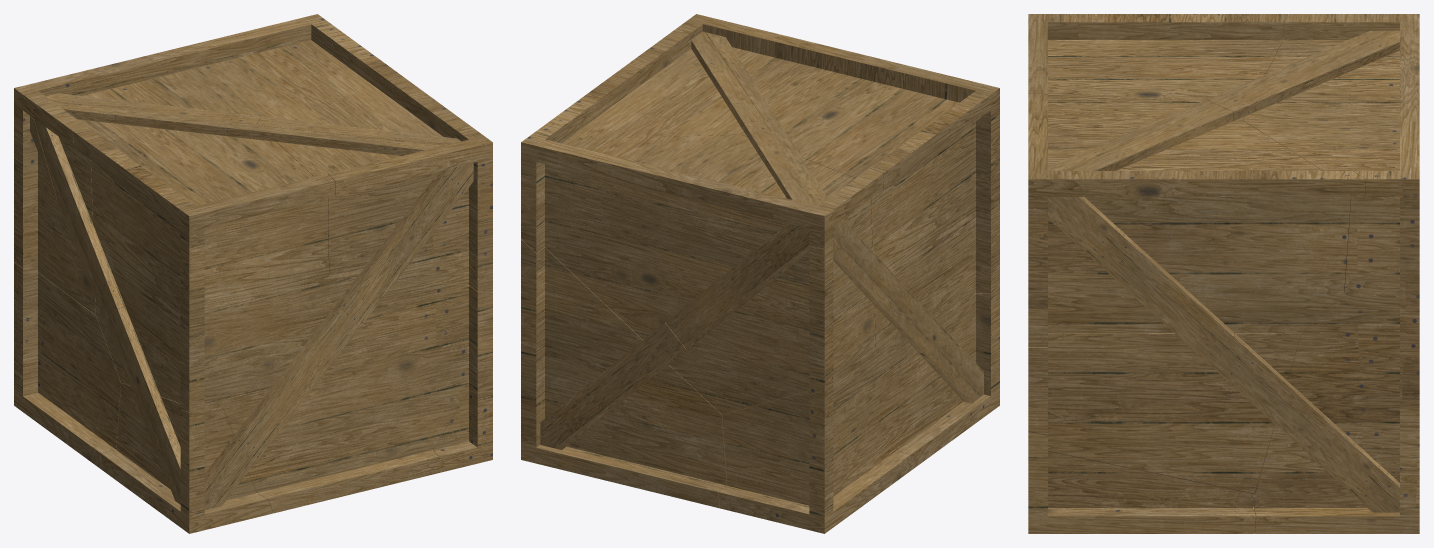
Rendered from broken_crate.glb.
The picture shows the model from 3 angles, left to right: view 1: azimuth 30°, elevation 25°; view 2: azimuth 150°, elevation 25°; view 3: azimuth 270°, elevation 25°; orthographic projection. The views are drawn at different scales.
Visible parts, largest first — view 1: crate_mesh_cell.007, crate_mesh_cell.006, crate_mesh_cell.004, crate_mesh_cell.003, crate_mesh_cell.005, crate_mesh_cell, crate_cross.003_cell.005, crate_cross.003_cell, crate_cross.001_cell, crate_cross.001_cell.001, crate_cross.004_cell.005, crate_mesh_cell.002 (+3 smaller); view 2: crate_mesh_cell.003, crate_mesh_cell.007, crate_mesh_cell.001, crate_mesh_cell.005, crate_mesh_cell.004, crate_mesh_cell, crate_cross.002_cell.003, crate_cross.002_cell, crate_cross.001_cell.001, crate_cross.001_cell, crate_cross.004_cell.005, crate_cross.004_cell.003 (+2 smaller); view 3: crate_mesh_cell.004, crate_mesh_cell.006, crate_mesh_cell.001, crate_mesh_cell.003, crate_mesh_cell.007, crate_mesh_cell.002, crate_cross_cell.003, crate_cross_cell.002, crate_cross.004_cell.005, crate_cross.004_cell.003, crate_cross.004_cell.001, crate_cross_cell.001.
Boxes of the visible parts, bbox=[...] form: crate_mesh_cell.007: bbox=[73, 129, 334, 412]; crate_mesh_cell.006: bbox=[222, 275, 492, 513]; crate_mesh_cell.004: bbox=[263, 31, 492, 292]; crate_mesh_cell.003: bbox=[14, 14, 341, 314]; crate_mesh_cell.005: bbox=[14, 262, 121, 468]; crate_mesh_cell: bbox=[100, 383, 273, 533]; crate_cross.003_cell.005: bbox=[204, 319, 349, 510]; crate_cross.003_cell: bbox=[325, 163, 473, 340]; crate_cross.001_cell: bbox=[34, 119, 125, 320]; crate_cross.001_cell.001: bbox=[104, 307, 180, 504]; crate_cross.004_cell.005: bbox=[46, 93, 261, 138]; crate_mesh_cell.002: bbox=[428, 368, 492, 475]; crate_mesh_cell.003: bbox=[521, 124, 883, 414]; crate_mesh_cell.007: bbox=[741, 52, 999, 376]; crate_mesh_cell.001: bbox=[521, 239, 727, 508]; crate_mesh_cell.005: bbox=[718, 346, 911, 533]; crate_mesh_cell.004: bbox=[545, 14, 853, 139]; crate_mesh_cell: bbox=[896, 284, 999, 470]; crate_cross.002_cell.003: bbox=[665, 223, 809, 349]; crate_cross.002_cell: bbox=[540, 322, 686, 436]; crate_cross.001_cell.001: bbox=[893, 296, 983, 403]; crate_cross.001_cell: bbox=[833, 219, 913, 326]; crate_cross.004_cell.005: bbox=[743, 119, 815, 205]; crate_cross.004_cell.003: bbox=[691, 31, 763, 130]; crate_mesh_cell.004: bbox=[1028, 93, 1365, 346]; crate_mesh_cell.006: bbox=[1028, 333, 1301, 494]; crate_mesh_cell.001: bbox=[1253, 288, 1419, 533]; crate_mesh_cell.003: bbox=[1243, 14, 1419, 292]; crate_mesh_cell.007: bbox=[1028, 14, 1288, 120]; crate_mesh_cell.002: bbox=[1028, 431, 1255, 533]; crate_cross_cell.003: bbox=[1048, 197, 1234, 361]; crate_cross_cell.002: bbox=[1206, 333, 1399, 512]; crate_cross.004_cell.005: bbox=[1207, 32, 1399, 121]; crate_cross.004_cell.003: bbox=[1065, 104, 1233, 170]; crate_cross.004_cell.001: bbox=[1048, 100, 1216, 170]; crate_cross_cell.001: bbox=[1354, 443, 1399, 506].
Bounding box in the file's own units: 2 × 2 × 2.
2 materials, 2 textured.
